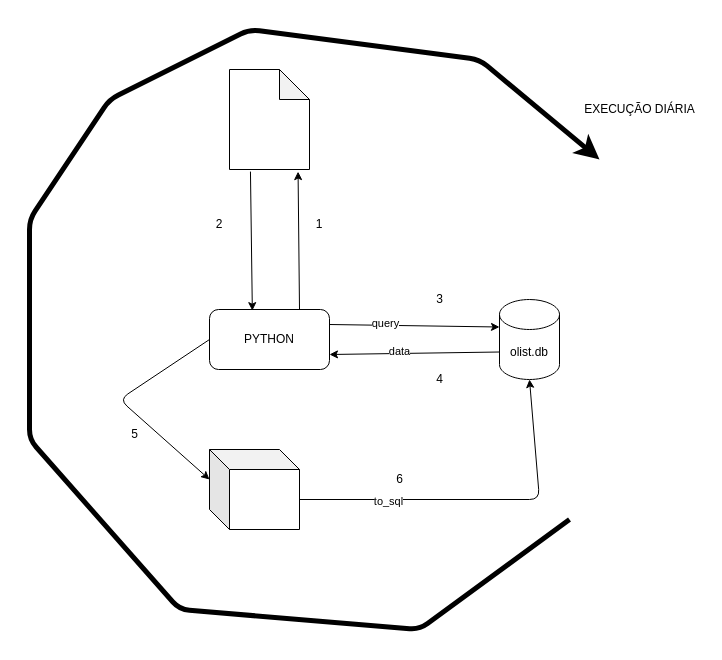
This 722x660 diagram has some shape labels left out. Each missing label, with the centre of its shape:
"etl.sql" goes at (x=269, y=119).
"ML" goes at (x=254, y=489).
